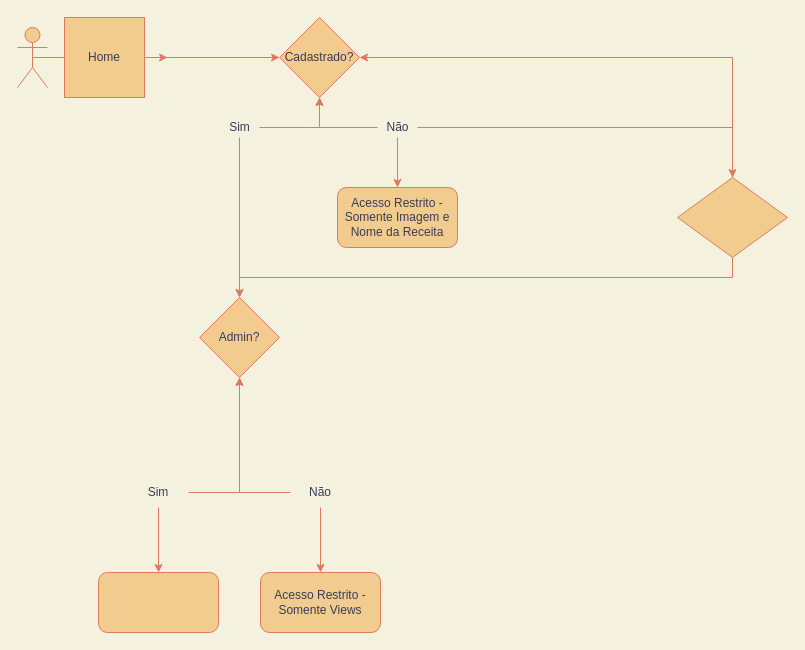
The diagram is 805 pixels wide and 650 high, and some of its shapes have lost their labels. The centre of each missing label's shape, as x and y in pixels:
Acesso Total a Aplicação e CRUD: the point at 158,602
Cadastrar-se?: the point at 732,217
User: the point at 32,57
